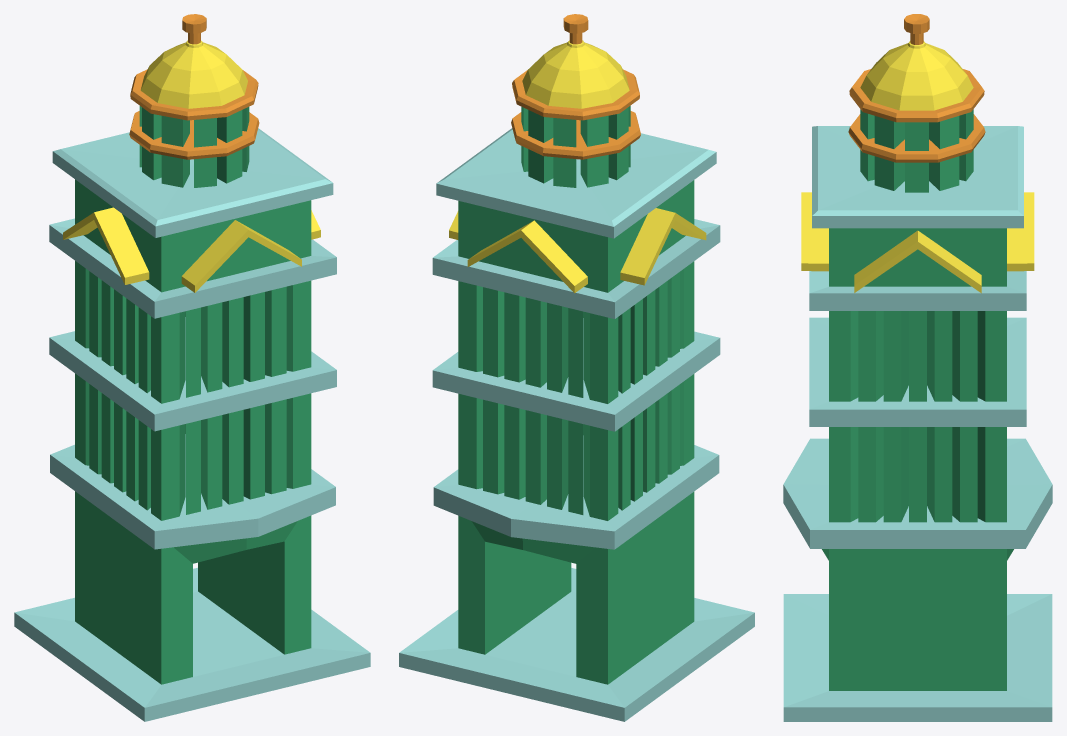
Rendered from house3.fbx.
3 views of the same model, side by side, from view 1: azimuth 30°, elevation 25°; view 2: azimuth 150°, elevation 25°; view 3: azimuth 270°, elevation 25° (orthographic). The views are drawn at different scales.
Visible parts, largest first — view 1: mid_build .006; view 2: mid_build .006; view 3: mid_build .006.
Boxes of the visible parts, x1,y1,x2,y2 form: mid_build .006: (14,14,370,721); mid_build .006: (399,14,754,721); mid_build .006: (783,14,1052,721).
Size of the model in its own units: 2186 by 5803 by 2189.
